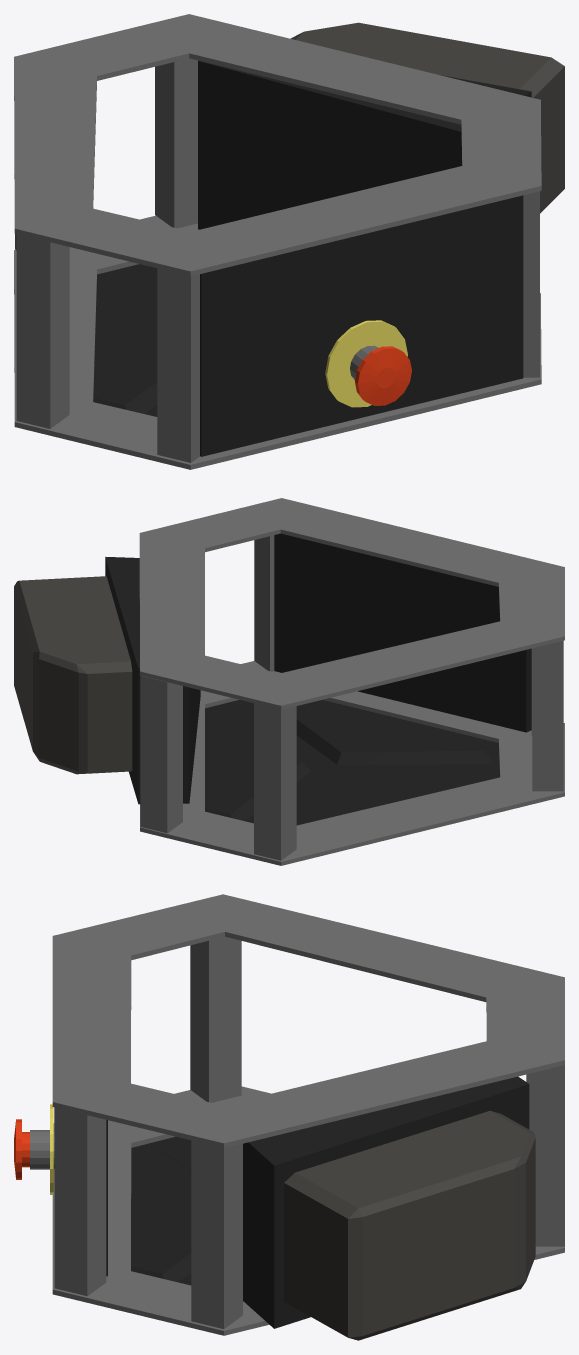
The model's file is Chassi.glb.
The picture shows the model from 3 angles, top to bottom: view 1: azimuth 30°, elevation 25°; view 2: azimuth 150°, elevation 25°; view 3: azimuth 270°, elevation 25°; orthographic projection. The views are drawn at different scales.
Visible parts, largest first — view 1: Chassi Plate, Button Mount, Battery Mount, Chassi Frame, Battery, Chassic Bottom Plate, Button Plate, Button Cap; view 2: Chassi Plate, Button Mount, Chassic Bottom Plate, Battery, Chassi Frame, Battery Mount; view 3: Chassi Plate, Battery, Chassi Frame, Battery Mount, Chassic Bottom Plate, Button Inner, Button Cap.
Boxes of the visible parts, x1,y1,x2,y2 form: Chassi Plate: (14, 14, 541, 469); Button Mount: (200, 195, 523, 456); Battery Mount: (198, 60, 531, 229); Chassi Frame: (15, 58, 539, 462); Battery: (290, 22, 564, 213); Chassic Bottom Plate: (93, 264, 157, 416); Button Plate: (325, 320, 407, 407); Button Cap: (355, 346, 411, 405); Chassi Plate: (139, 498, 564, 865); Button Mount: (274, 533, 531, 732); Chassic Bottom Plate: (205, 700, 499, 825); Battery: (14, 576, 132, 774); Chassi Frame: (140, 535, 563, 860); Battery Mount: (105, 556, 200, 804); Chassi Plate: (52, 894, 564, 1335); Battery: (284, 1110, 535, 1340); Chassi Frame: (54, 936, 564, 1328); Battery Mount: (243, 1076, 529, 1328); Chassic Bottom Plate: (131, 1136, 191, 1285); Button Inner: (30, 1130, 54, 1169); Button Cap: (14, 1119, 29, 1179).
Bounding box in the file's own units: 0.4436 × 0.1444 × 0.3551.
